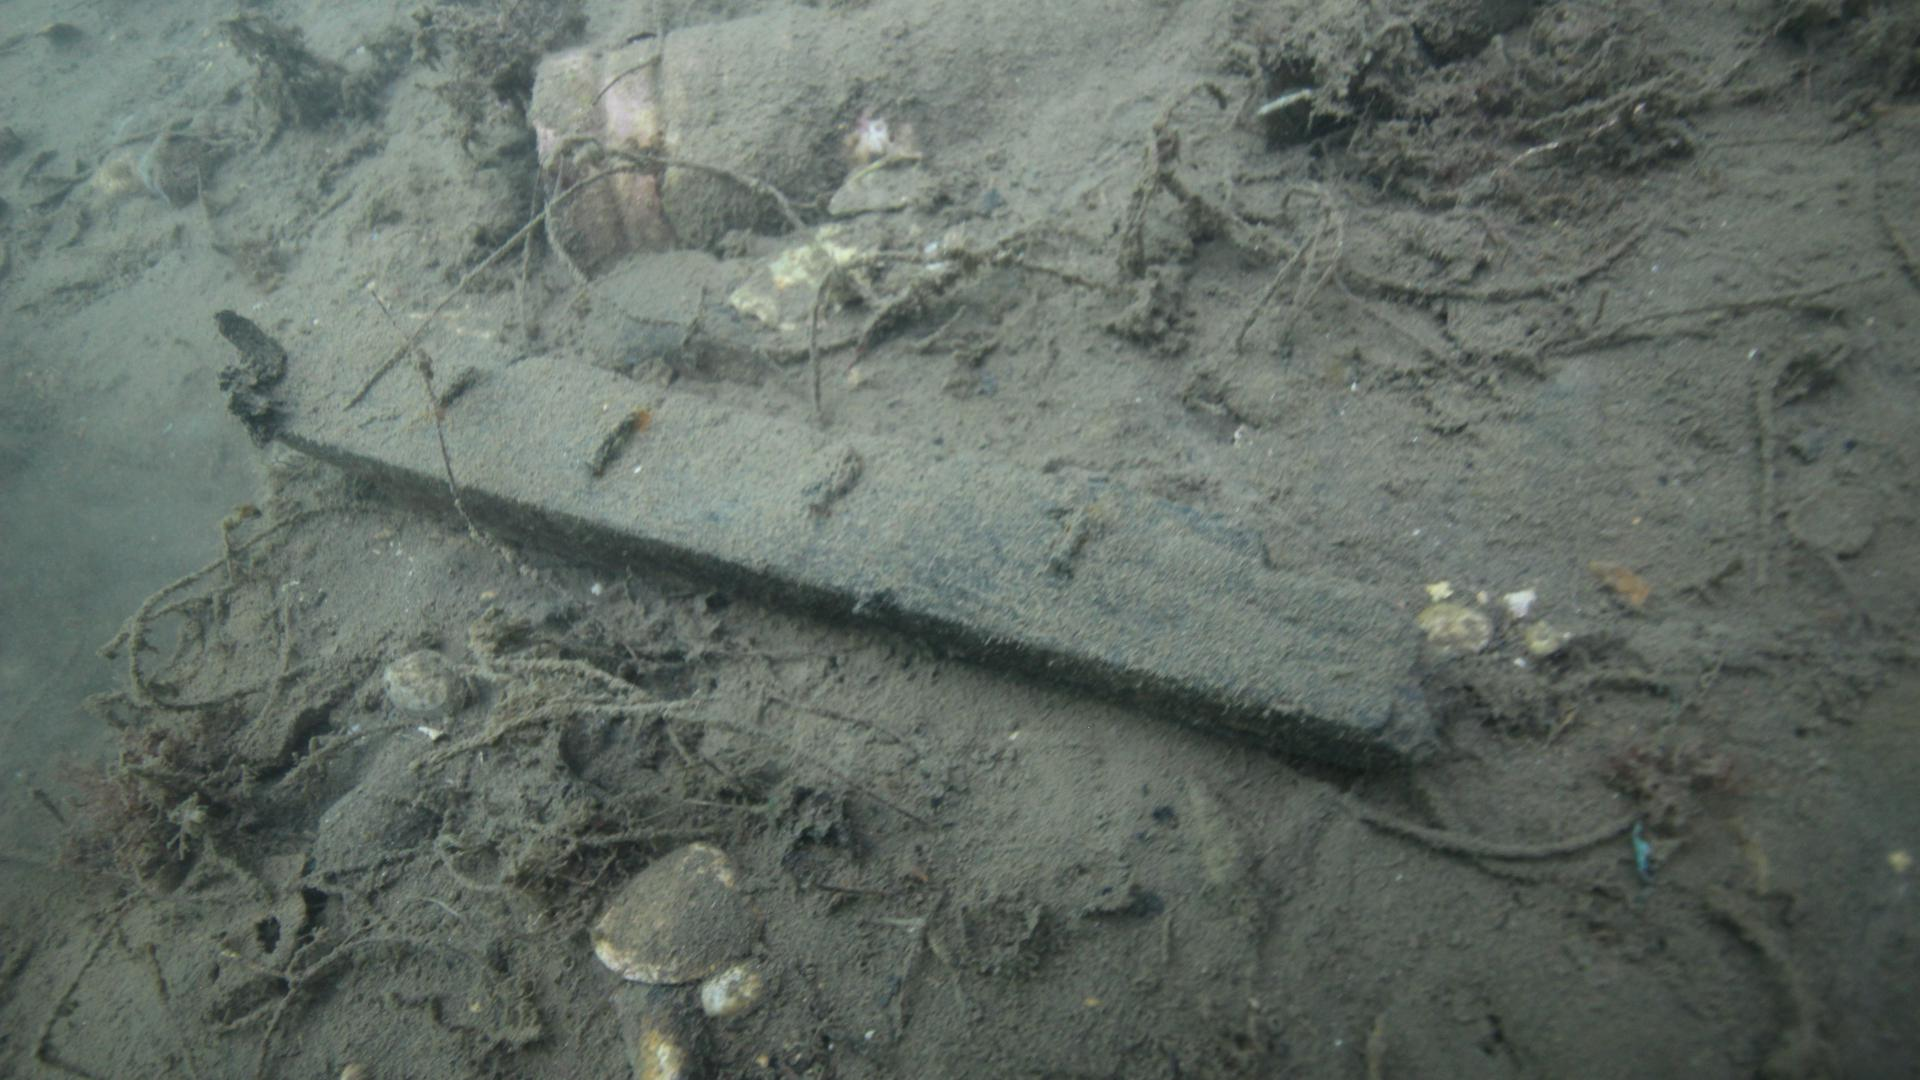wood: (208, 286, 1451, 782)
